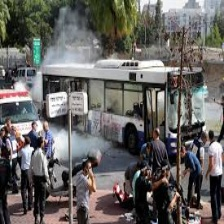smoke: (52, 127, 105, 153), (55, 35, 89, 66)
